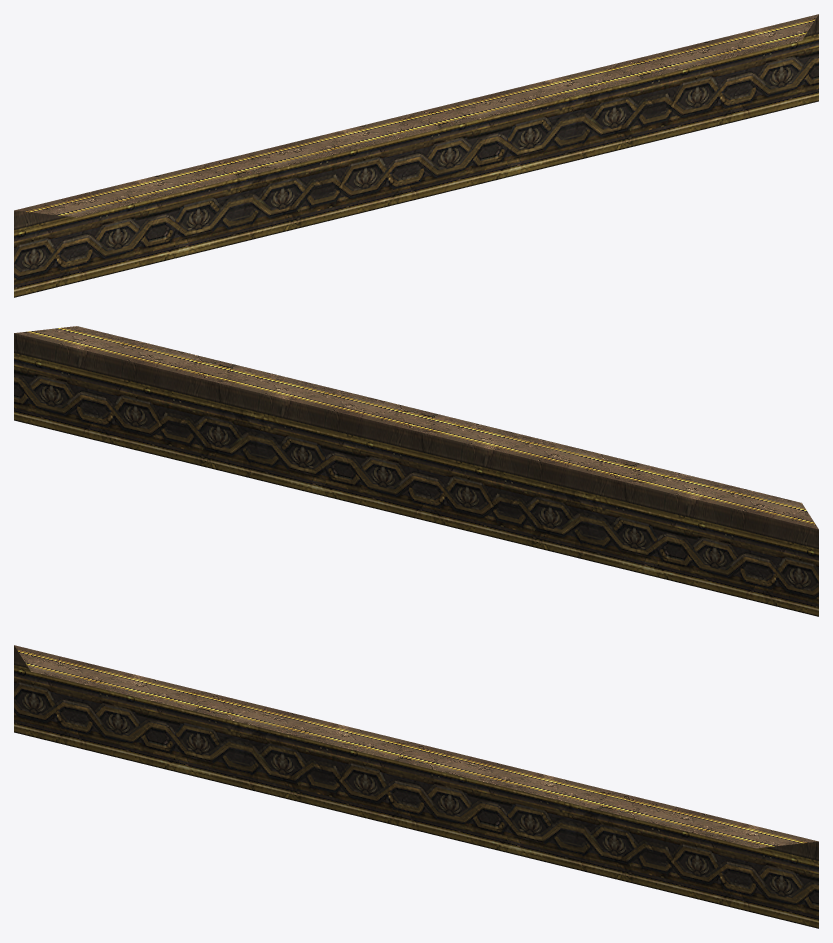
The model's file is A03_battle_a_part_02.FBX.
3 renders of one model, top to bottom at view 1: azimuth 30°, elevation 25°; view 2: azimuth 150°, elevation 25°; view 3: azimuth 330°, elevation 25°, orthographic.
Visible parts, largest first — view 1: A03_battle_a_part_02; view 2: A03_battle_a_part_02; view 3: A03_battle_a_part_02.
Boxes of the visible parts, <box> form: A03_battle_a_part_02: <box>14,14,818,297</box>; A03_battle_a_part_02: <box>14,326,818,616</box>; A03_battle_a_part_02: <box>14,645,818,928</box>.
Size of the model in its own units: 9.08 by 0.942 by 0.449.
Materials: 1 (1 with a texture image).
